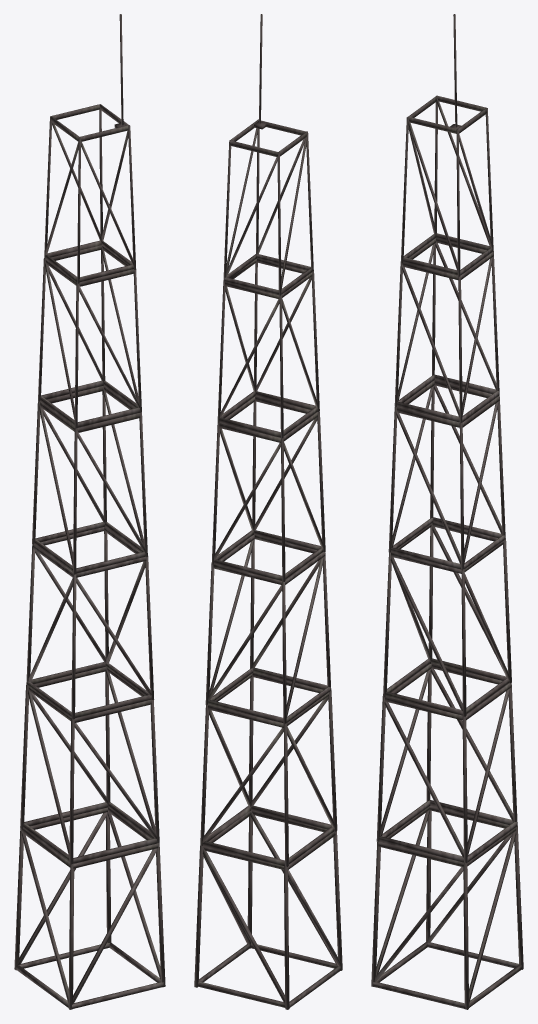
The model's file is Tower.glb.
3 renders of one model, left to right at view 1: azimuth 30°, elevation 25°; view 2: azimuth 150°, elevation 25°; view 3: azimuth 330°, elevation 25°, orthographic. The views are drawn at different scales.
Parts seen in each view (by area): view 1: Tower; view 2: Tower; view 3: Tower.
Boxes of the visible parts, <box> form: Tower: <box>14,14,165,1009</box>; Tower: <box>194,14,342,1009</box>; Tower: <box>371,14,523,1009</box>.
Bounding box in the file's own units: 2.07 × 20.04 × 2.1.
1 material, 1 textured.
